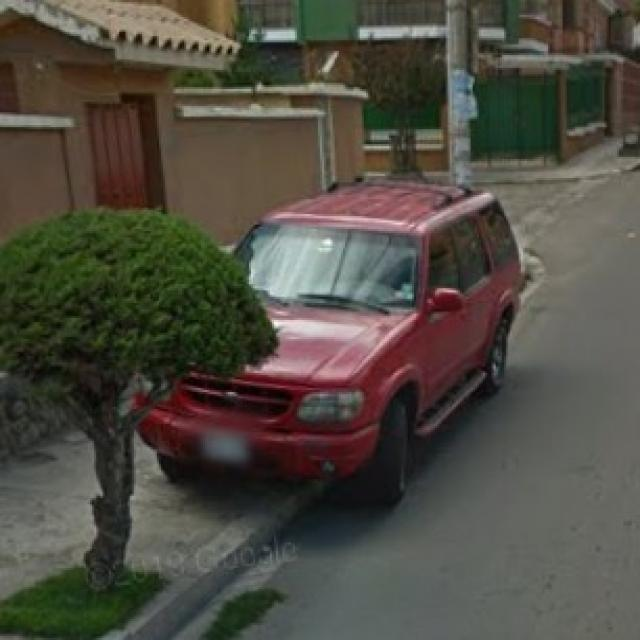Car: (162, 193, 526, 526)
